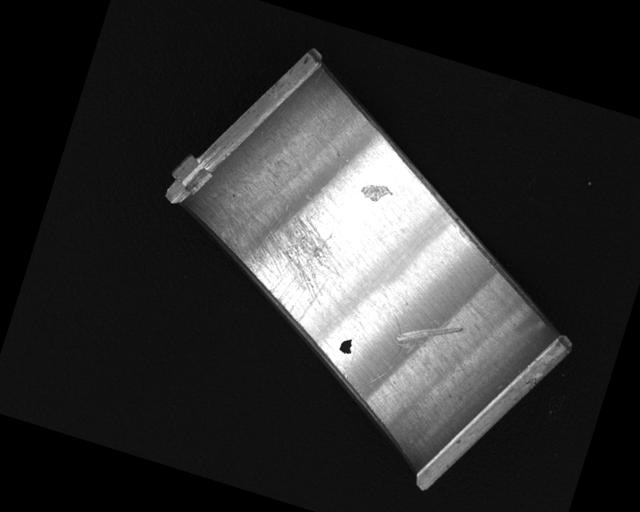blot: (337, 336, 355, 356)
bruise: (356, 179, 395, 207)
nick: (367, 309, 410, 389), (395, 309, 464, 358)
scratch: (211, 194, 359, 333)
